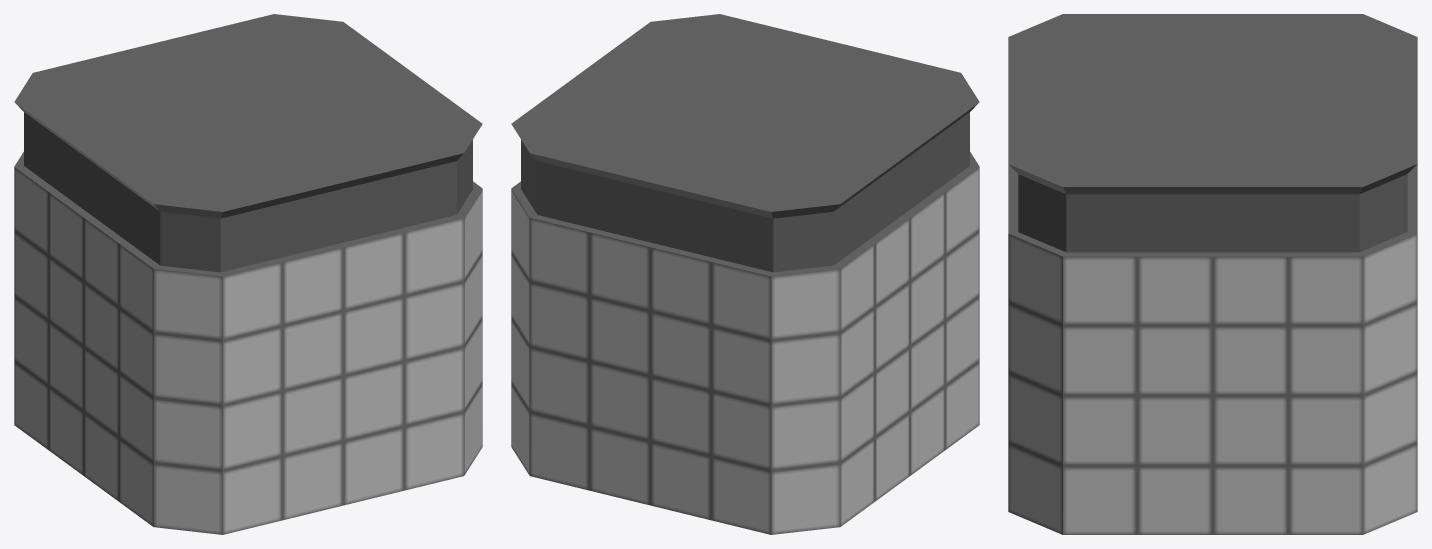
The model's file is SW_ENV_PillarTiledTop_01.fbx.
3 renders of one model, left to right at view 1: azimuth 30°, elevation 25°; view 2: azimuth 150°, elevation 25°; view 3: azimuth 270°, elevation 25°, orthographic. The views are drawn at different scales.
Visible parts, largest first — view 1: SW_ENV_PillarTiledTop_01; view 2: SW_ENV_PillarTiledTop_01; view 3: SW_ENV_PillarTiledTop_01.
Part boxes in pixels (x1=…): SW_ENV_PillarTiledTop_01: x1=14, y1=14, x2=482, y2=534; SW_ENV_PillarTiledTop_01: x1=511, y1=14, x2=979, y2=534; SW_ENV_PillarTiledTop_01: x1=1008, y1=14, x2=1417, y2=534.
Size of the model in its own units: 80 by 75 by 80.
